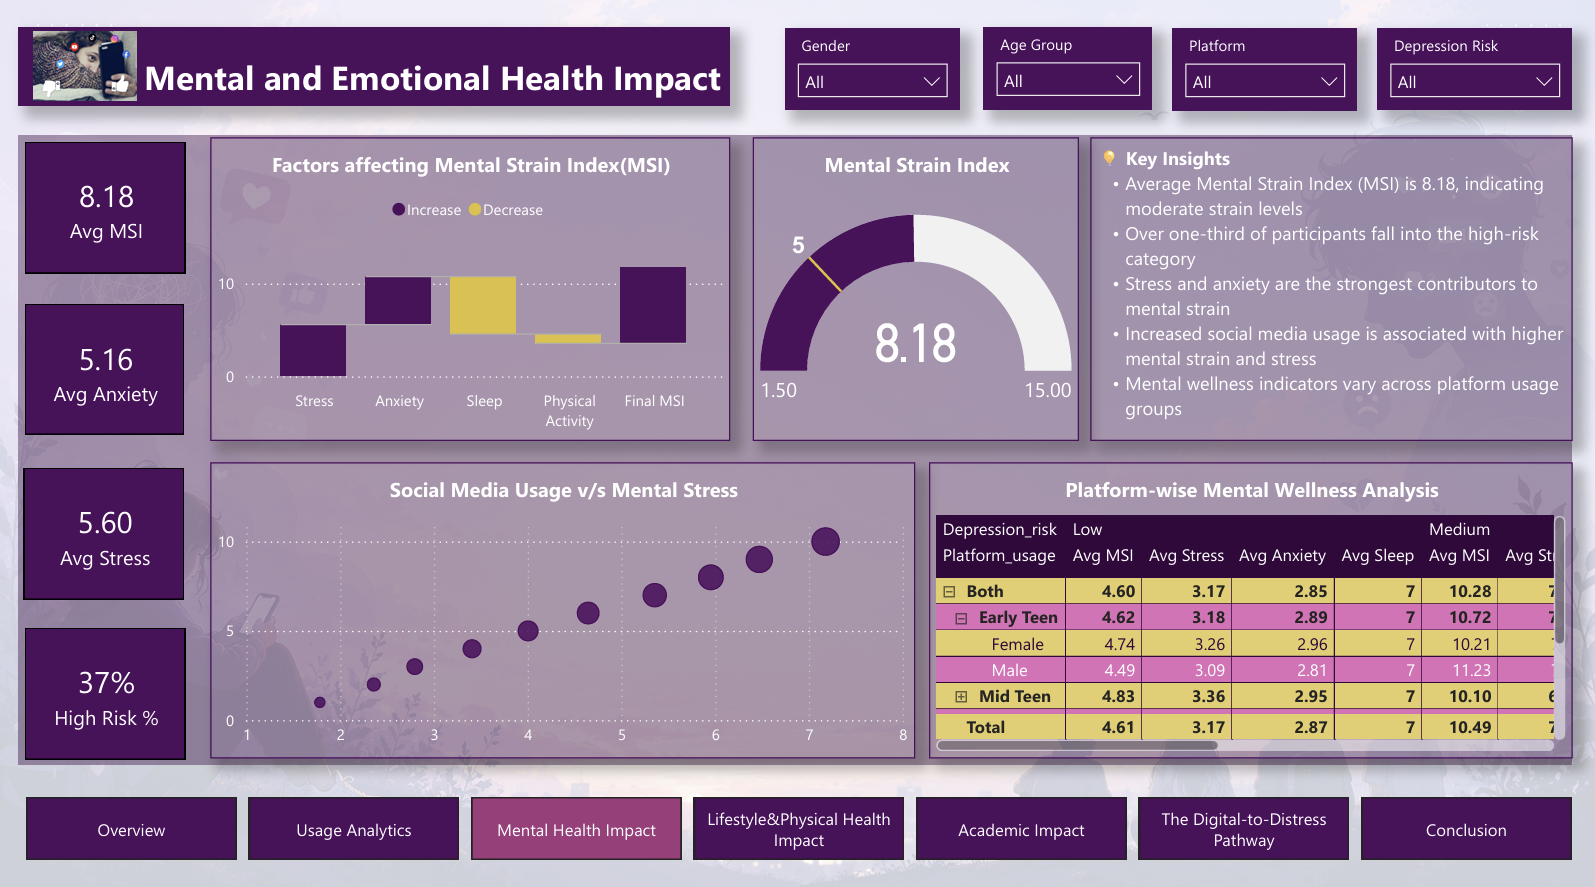

The page's visual inventory and layout, read from the dashboard file:
{"tool":"powerbi","page":{"name":"Mental Health Impact","canvas":[1280,720],"ordinal":2},"visuals":[{"type":"slicer","fields":{"Values":["Teen_Mental_Health_Dataset.Gender"]},"box":[629.1,30.4,140.1,64.7],"z":0},{"type":"slicer","fields":{"Values":["Teen_Mental_Health_Dataset.Platform_usage"]},"box":[938.7,30.4,148,65.7],"z":1000},{"type":"slicer","fields":{"Values":["Teen_Mental_Health_Dataset.Age Group"]},"box":[787.8,29.4,135.2,65.7],"z":2000},{"type":"slicer","fields":{"Values":["Teen_Mental_Health_Dataset.Depression_risk"]},"box":[1103.3,30.4,155.8,64.7],"z":3000},{"type":"textbox","box":[15.7,29.4,569.3,62.7],"z":4000},{"type":"cardVisual","fields":{"Data":["DAX measures.Avg MSI"]},"box":[15.8,116.3,137.8,115.2],"z":5000},{"type":"gauge","title":"Mental Strain Index","fields":{"TargetValue":["DAX measures.Target MSI"],"MinValue":["DAX measures.Min-MSI"],"MaxValue":["DAX measures.Max-MSI"],"Y":["DAX measures.Avg MSI"]},"box":[602.6,116.6,261.6,243],"z":6000},{"type":"waterfallChart","title":"Factors affecting Mental Strain Index(MSI)","fields":{"Category":["WaterfallFactors.Factor"],"Y":["DAX measures.Waterfall Value"]},"box":[168.5,116.6,416.4,243],"z":7000},{"type":"scatterChart","title":"Social Media Usage v/s Mental Stress","fields":{"Y":["Teen_Mental_Health_Dataset.Stress_level"],"X":["DAX measures.Average Social Media Usage"],"Size":["Avg(Teen_Mental_Health_Dataset.Mental Strain Index(MSI))"]},"box":[168.5,377.2,564.4,237.1],"z":8000},{"type":"pivotTable","title":"Platform-wise Mental Wellness Analysis","fields":{"Rows":["Teen_Mental_Health_Dataset.Platform_usage","Teen_Mental_Health_Dataset.Age Group","Teen_Mental_Health_Dataset.Gender"],"Values":["DAX measures.Avg MSI","DAX measures.Avg Stress","DAX measures.Avg Anxiety","DAX measures.Avg Sleep"],"Columns":["Teen_Mental_Health_Dataset.Depression_risk"]},"box":[743.7,377.2,515.4,237.1],"z":9000},{"type":"textbox","box":[873,117,386,243],"z":10000},{"type":"cardVisual","fields":{"Data":["DAX measures.Avg Anxiety"]},"box":[16,246.1,137,114],"z":11000},{"type":"cardVisual","fields":{"Data":["DAX measures.Avg Stress"]},"box":[14.7,377.2,138.2,114.6],"z":12000},{"type":"cardVisual","fields":{"Data":["DAX measures.High Risk %"]},"box":[16,505.2,138,115],"z":13000},{"type":"pageNavigator","box":[21.6,644.7,1237.6,50],"z":14000},{"type":"image","box":[0,32.3,139.1,55.9],"z":15000}]}

Visuals, with their boxes in screenshot pixels (x1, y1, x2, y2), scaled from the page's 1280x720 canvas onto the 1595x887 screenshot:
slicer - Teen_Mental_Health_Dataset.Gender: <box>784,37,958,117</box>
slicer - Teen_Mental_Health_Dataset.Platform_usage: <box>1170,37,1354,118</box>
slicer - Teen_Mental_Health_Dataset.Age Group: <box>982,36,1150,117</box>
slicer - Teen_Mental_Health_Dataset.Depression_risk: <box>1375,37,1569,117</box>
textbox: <box>20,36,729,113</box>
cardVisual - DAX measures.Avg MSI: <box>20,143,191,285</box>
"Mental Strain Index" gauge: <box>751,144,1077,443</box>
"Factors affecting Mental Strain Index(MSI)" waterfallChart: <box>210,144,729,443</box>
"Social Media Usage v/s Mental Stress" scatterChart: <box>210,465,913,757</box>
"Platform-wise Mental Wellness Analysis" pivotTable: <box>927,465,1569,757</box>
textbox: <box>1088,144,1569,444</box>
cardVisual - DAX measures.Avg Anxiety: <box>20,303,191,444</box>
cardVisual - DAX measures.Avg Stress: <box>18,465,191,606</box>
cardVisual - DAX measures.High Risk %: <box>20,622,192,764</box>
pageNavigator: <box>27,794,1569,856</box>
image: <box>0,40,173,109</box>
